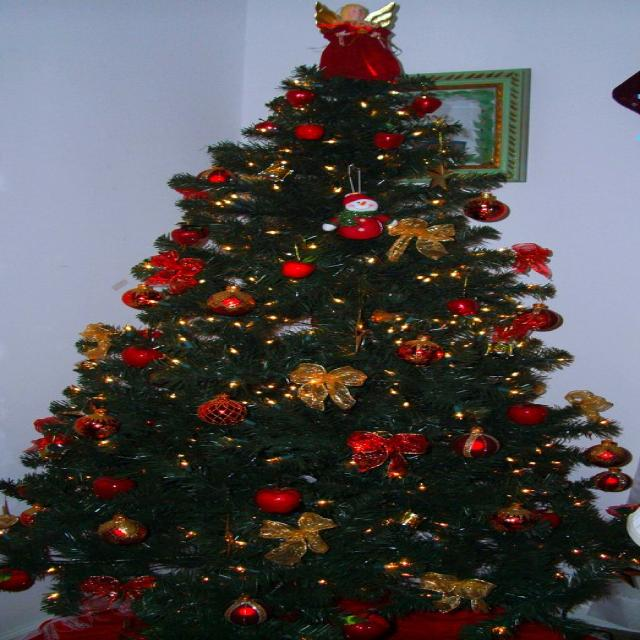Christmas-tree: (55, 2, 600, 632)
